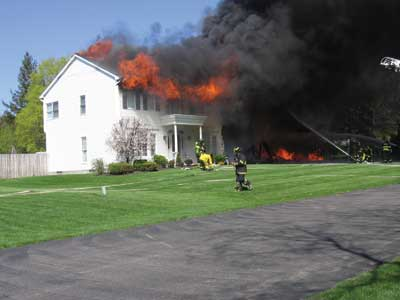fire: (119, 56, 227, 104), (272, 141, 326, 166)
smoke: (232, 8, 336, 135), (126, 10, 229, 53)
